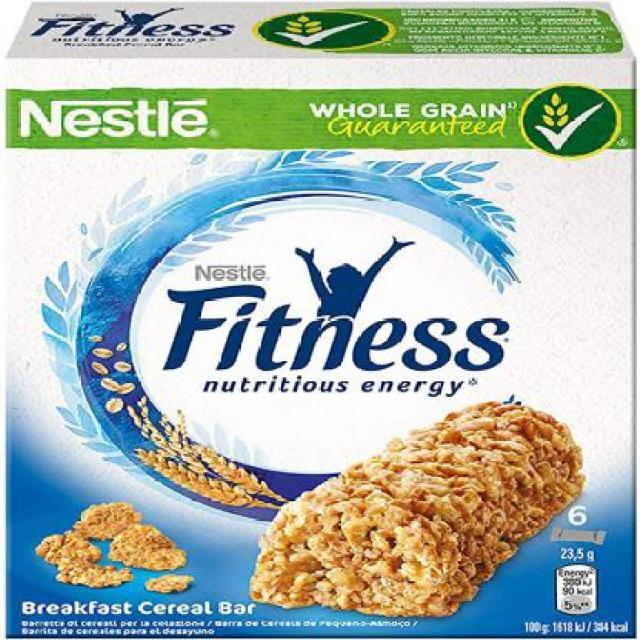Cereal bar: (3, 18, 640, 640)
